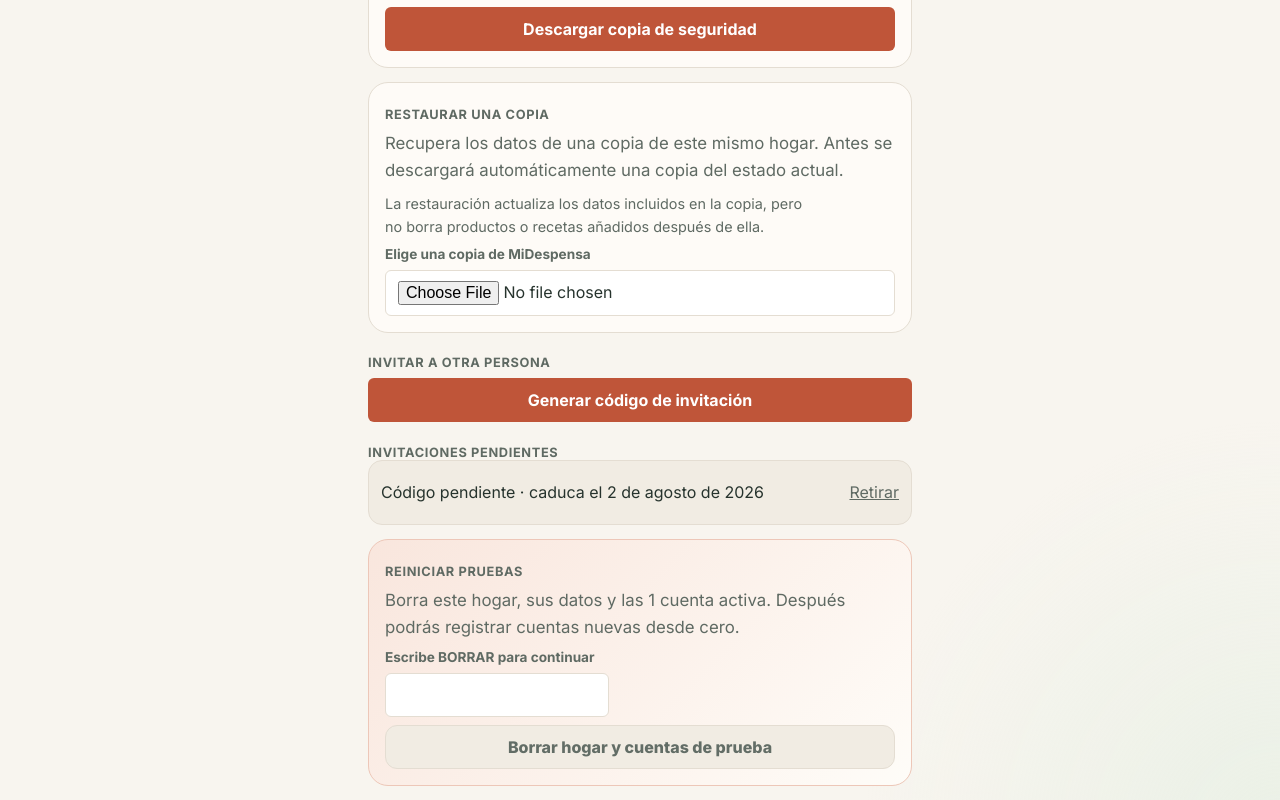
Test: HouseholdManager › generates an invitation code and shows it on screen
(page scrolled)
Click the button "Generar código de invitación": click(640, 400) [368,378,912,422]
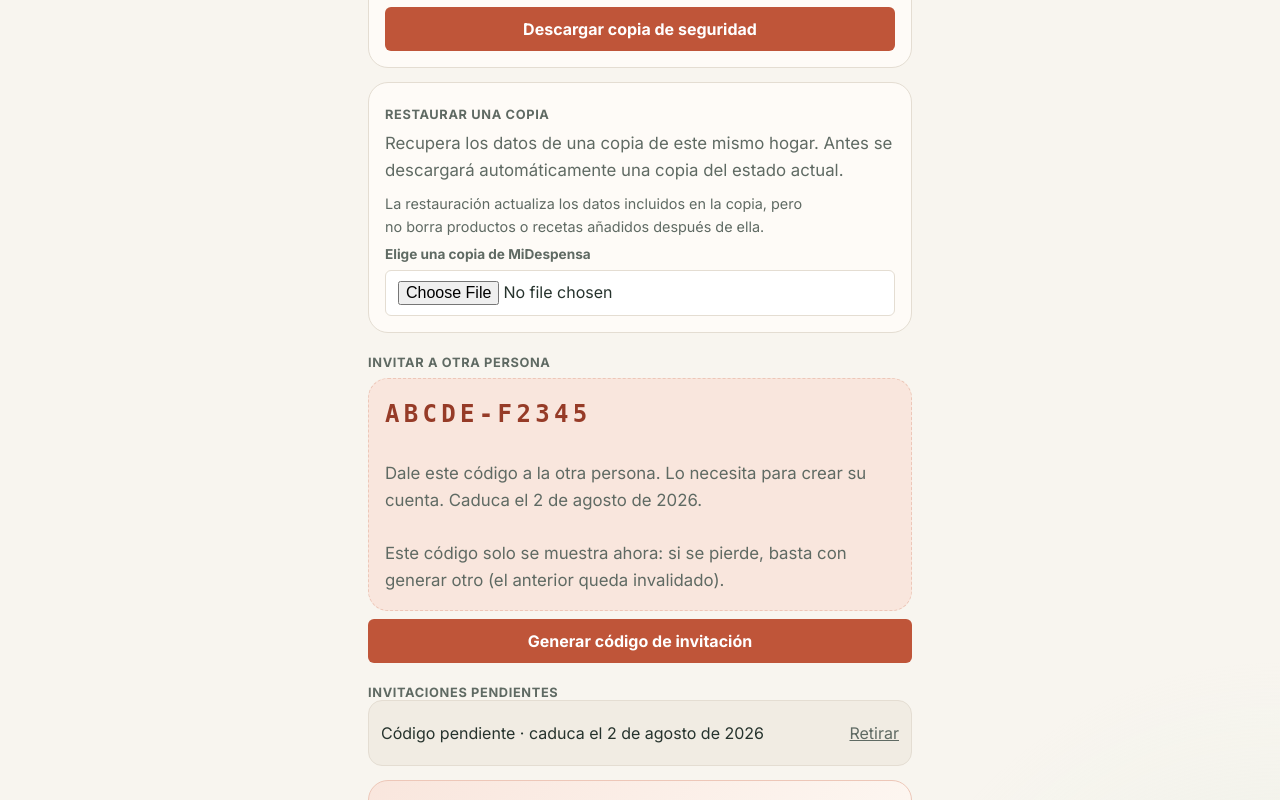
expect the text "ABCDE-F2345" is shown: met, box [385,400,592,428]
expect the text "Dale este código a la otra persona" is shown: met, box [385,463,866,510]
